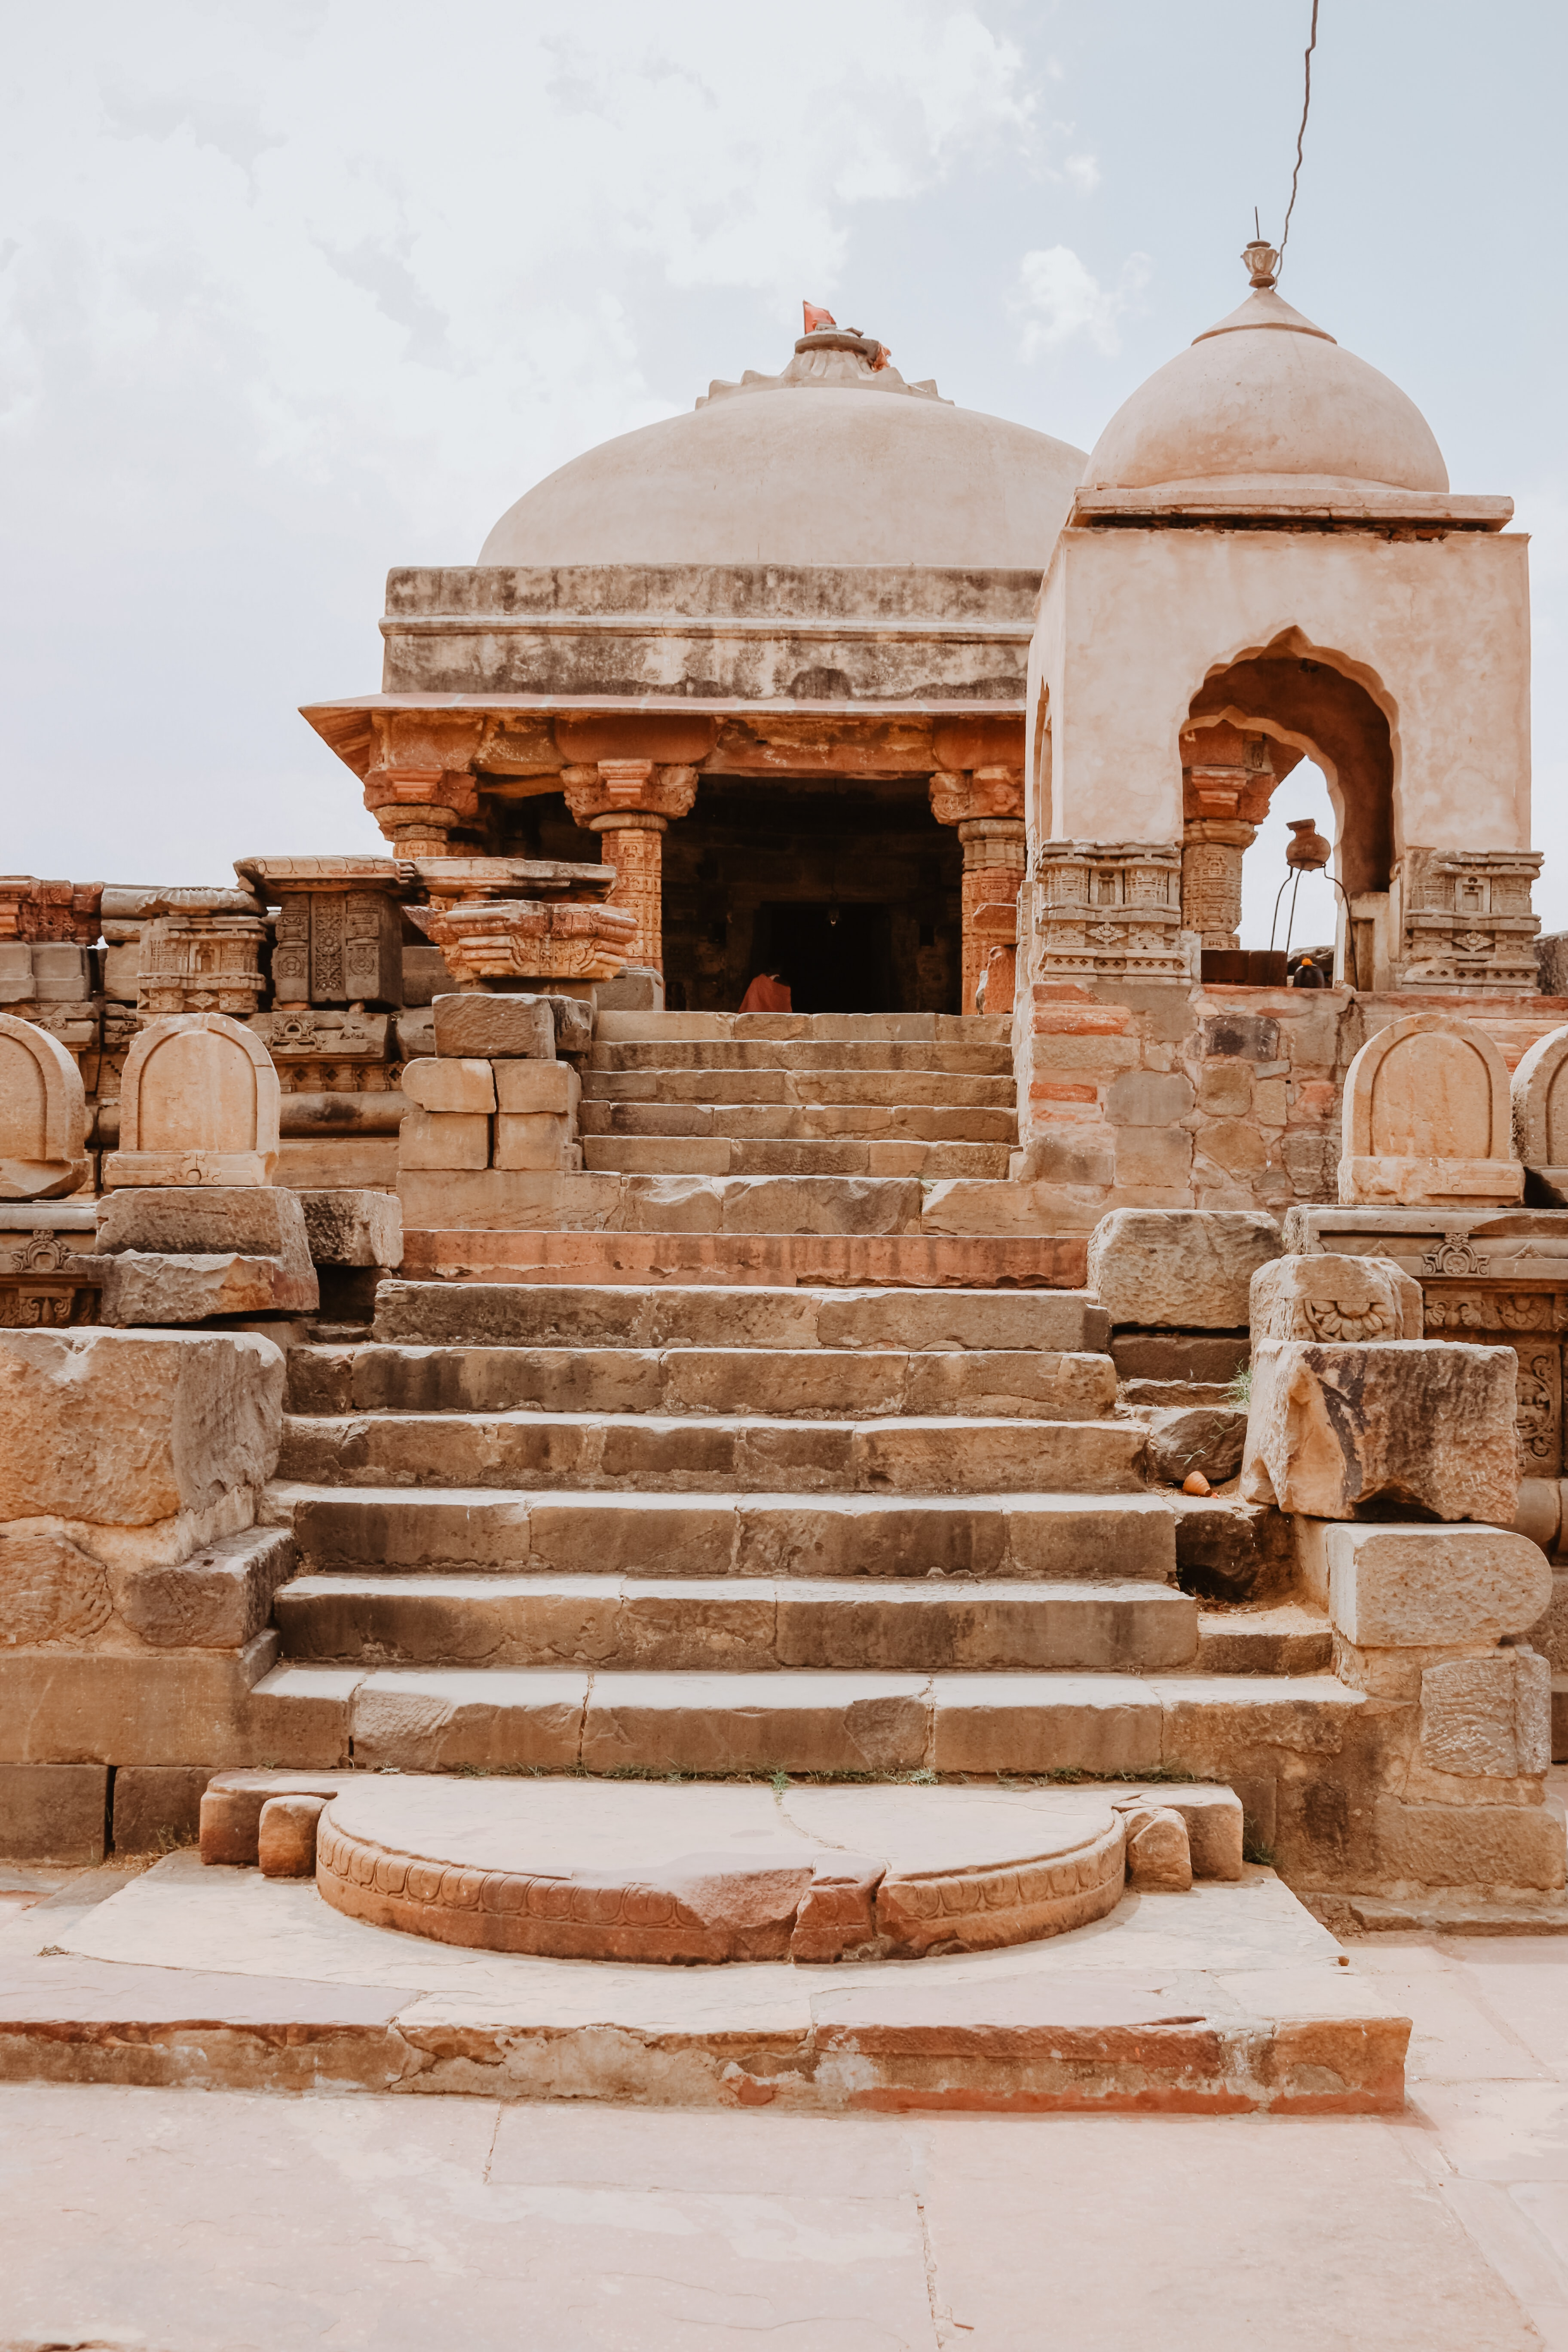upstairs: (394, 1270, 1081, 2180)
